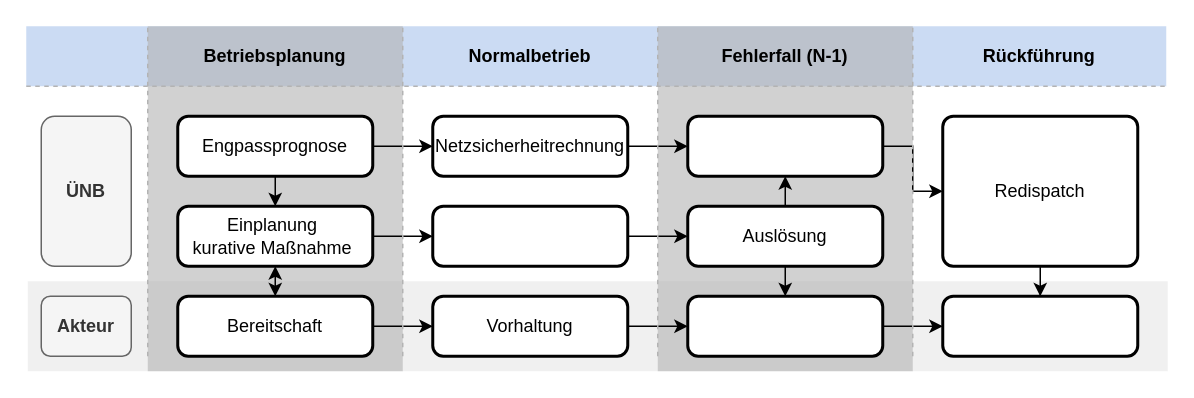
The diagram is 1194 pixels wide and 398 high, and some of its shapes have lost their labels. The centre of each missing label's shape, as x and y in pixels:
"Abruf = Anpassung Leistungspunkt" belongs at (785,325).
"Freier Betrieb" belongs at (1039,325).
"Neubewertung" belongs at (785,145).
"Scharfschaltung" belongs at (529,235).
